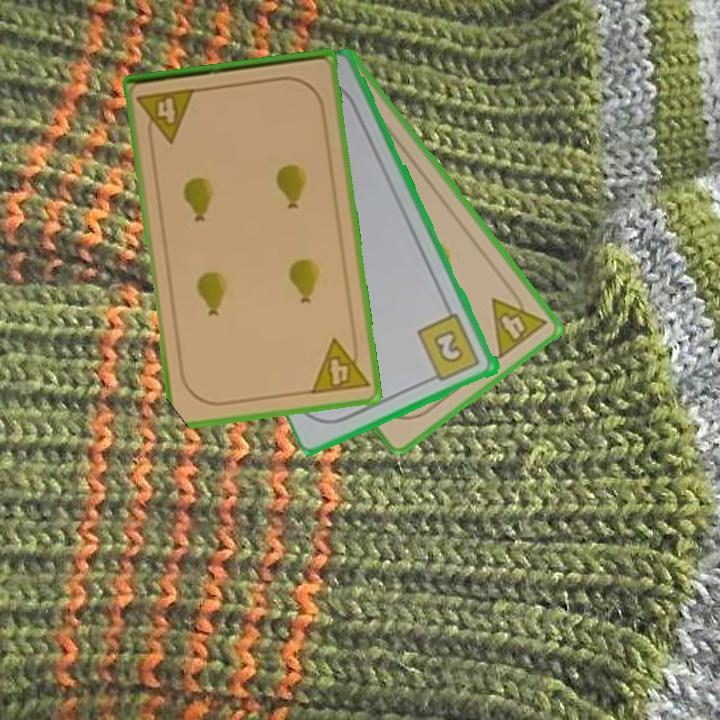2b: (414, 310, 483, 385)
4p: (488, 282, 550, 362), (307, 332, 372, 397), (134, 85, 199, 148)
